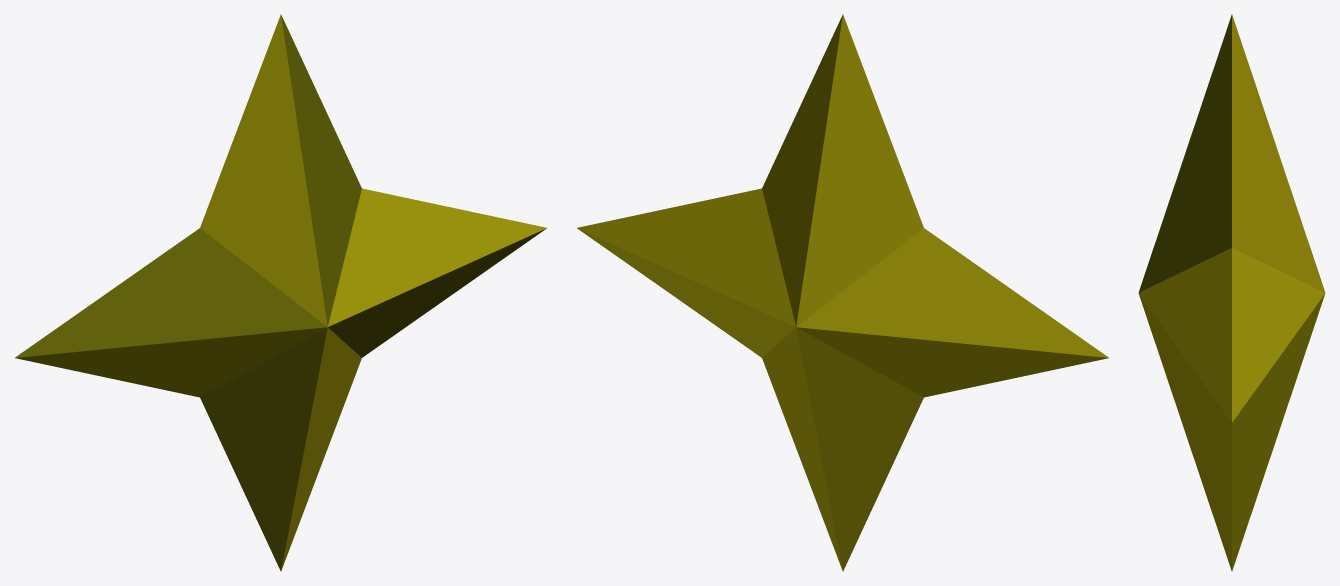
Rendered from Pick_Up.fbx.
3 renders of one model, left to right at view 1: azimuth 30°, elevation 25°; view 2: azimuth 150°, elevation 25°; view 3: azimuth 270°, elevation 25°, orthographic.
Visible parts, largest first — view 1: Pick_Up; view 2: Pick_Up; view 3: Pick_Up.
Boxes of the visible parts, x1,y1,x2,y2 form: Pick_Up: [15, 14, 546, 571]; Pick_Up: [577, 14, 1108, 571]; Pick_Up: [1138, 14, 1325, 571].
Size of the model in its own units: 1.23 by 1.23 by 0.3731.
